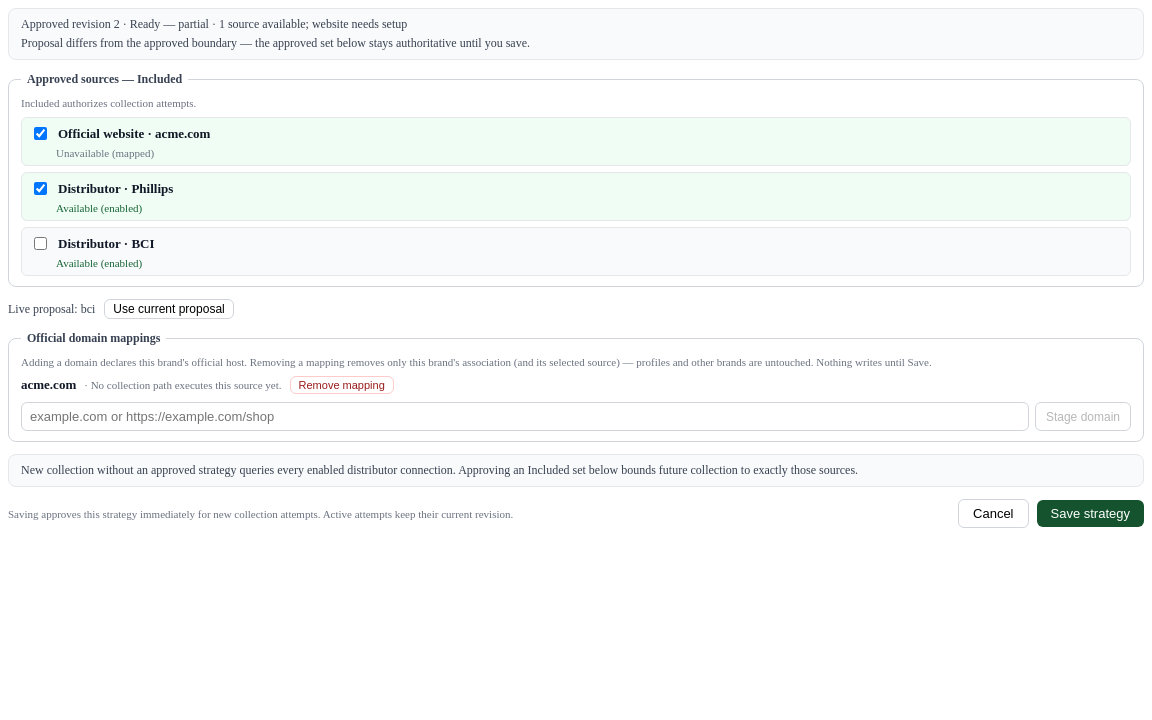
Test: BrandStrategyBuilder (mounted) › empty selection disables Save with an explanation; control labels are keyboard-operable
What coordinates should you click on to do the following:
click the checkbox labelled "Official website · acme.com"
I would click on:
 (40, 134)
Its box is [34, 127, 47, 140].
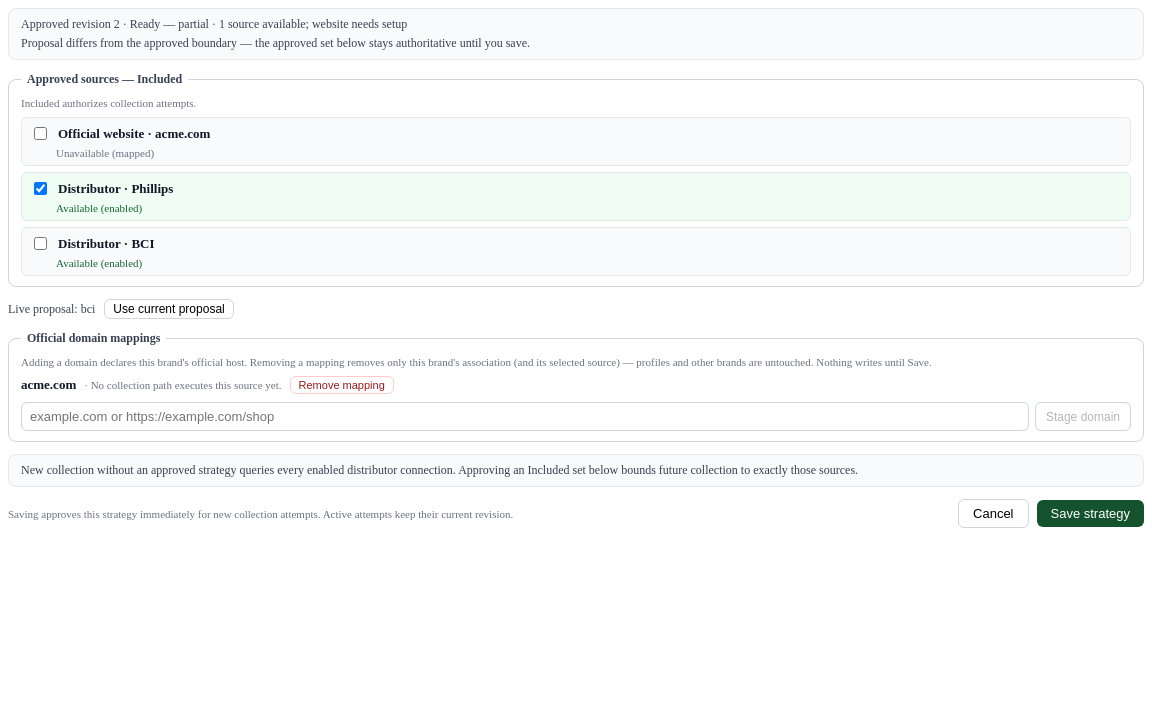
What coordinates should you click on to do the following:
click the checkbox labelled "Distributor · Phillips"
I would click on:
 (40, 188)
Its box is [34, 182, 47, 195].
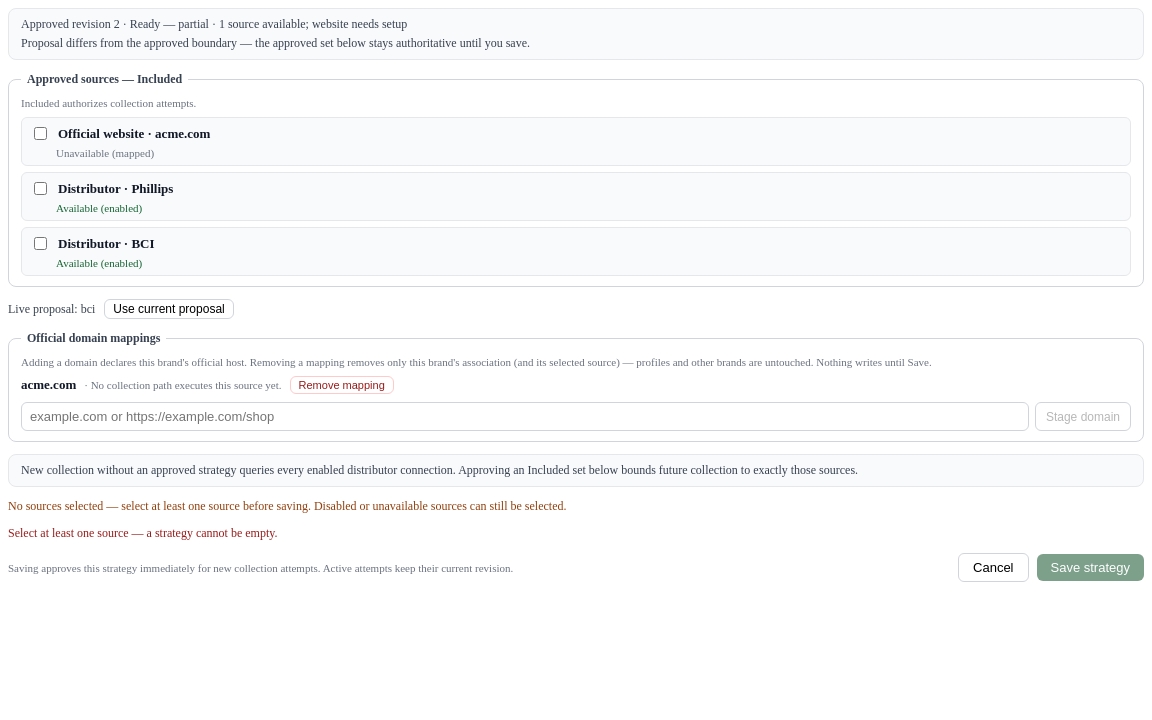
Expected: the text "Approved sources — Included" is shown, [21, 72, 188, 87]
Expected: the text "at least one source" is shown, [8, 499, 566, 513]
Expected: the button "Save strategy" is disabled, [1036, 554, 1144, 581]
